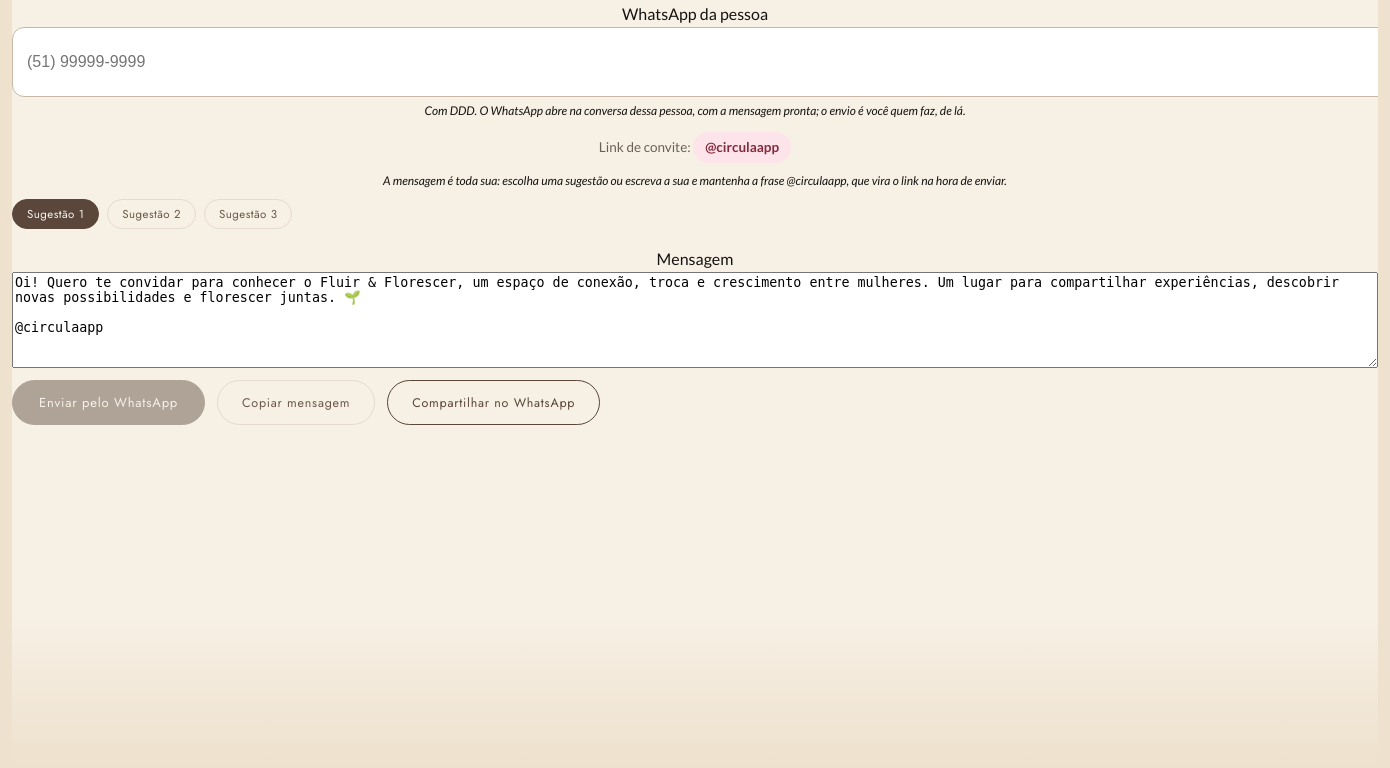
CommunityInviteWhatsApp › enviar pelo WhatsApp fica desabilitado sem número e abre a conversa do número digitado
The image size is (1390, 768).
Later steps or results of the test are not shown.
Expected: the button "Enviar pelo WhatsApp" is disabled, [12,380,205,425]
Type "(51) 99999-8888" into the field labelled "WhatsApp da pessoa" at (695,62), box [12,27,1378,97]
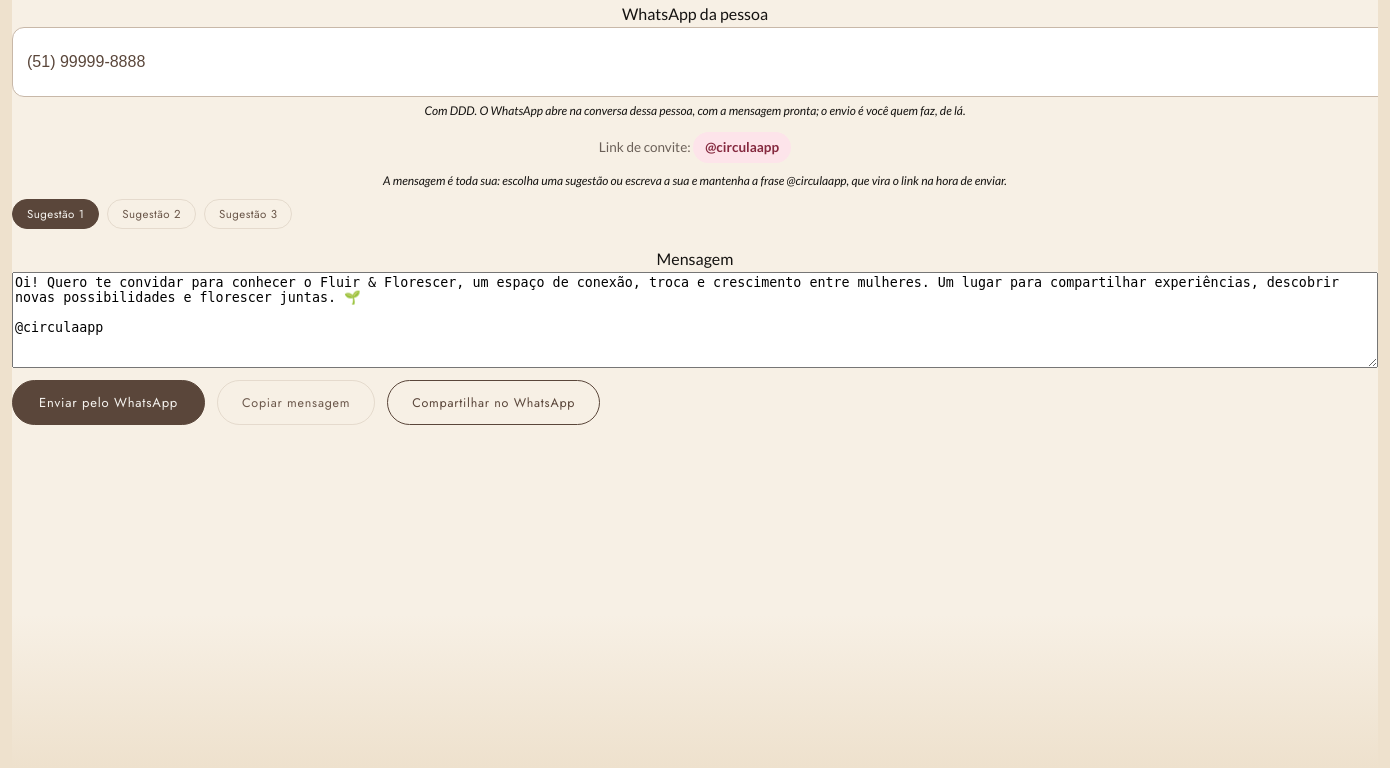
Now the button "Enviar pelo WhatsApp" is enabled, box [12,380,205,425]
